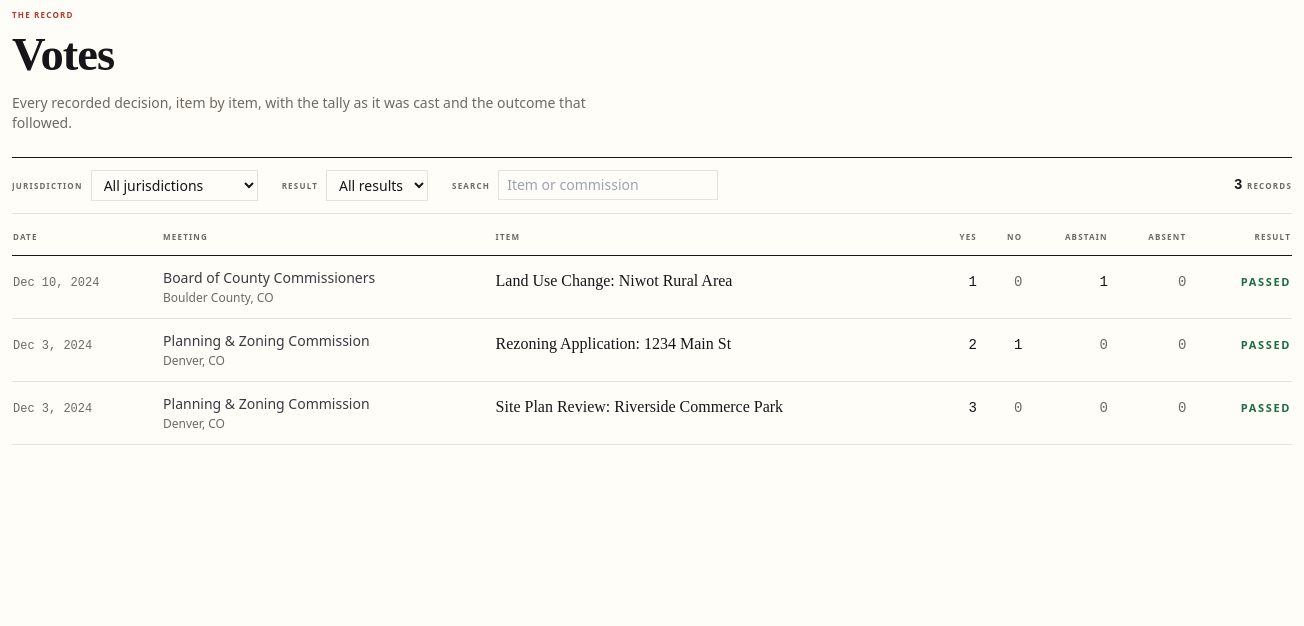
Test: VotesPage › never uses yea/nay vocabulary
Click the button "Rezoning Application: 1234 Main St" at (613, 344), box [496, 333, 731, 355]
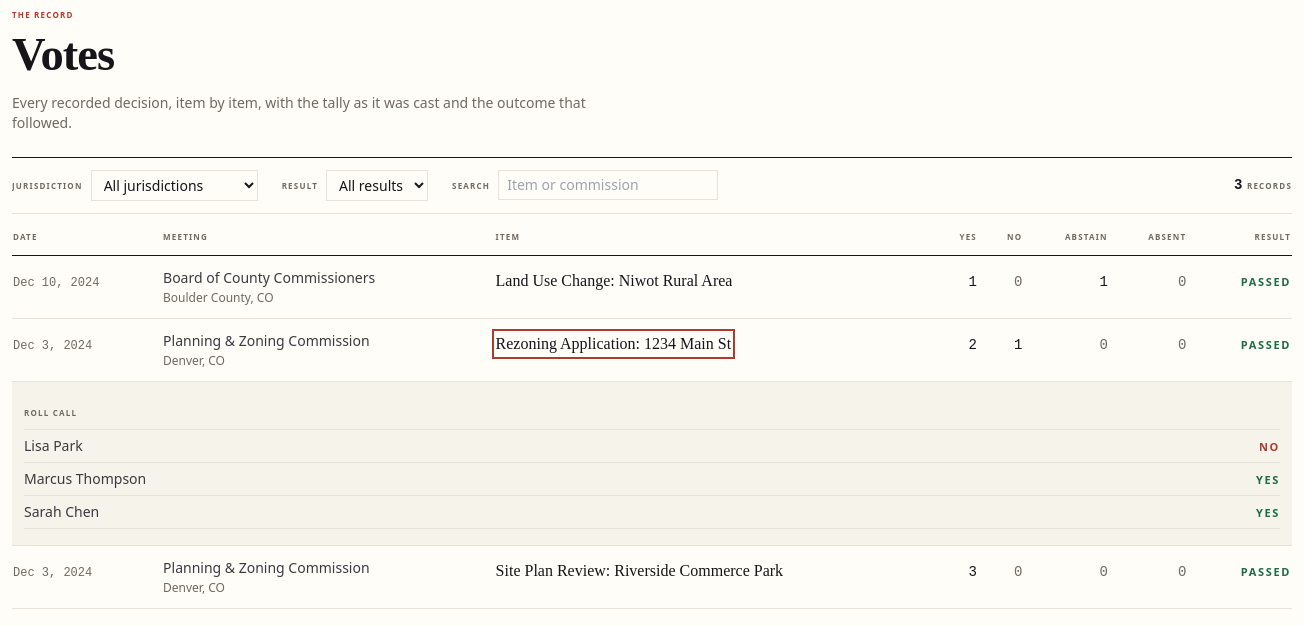
Now the list is shown, box [24, 428, 1280, 528]
